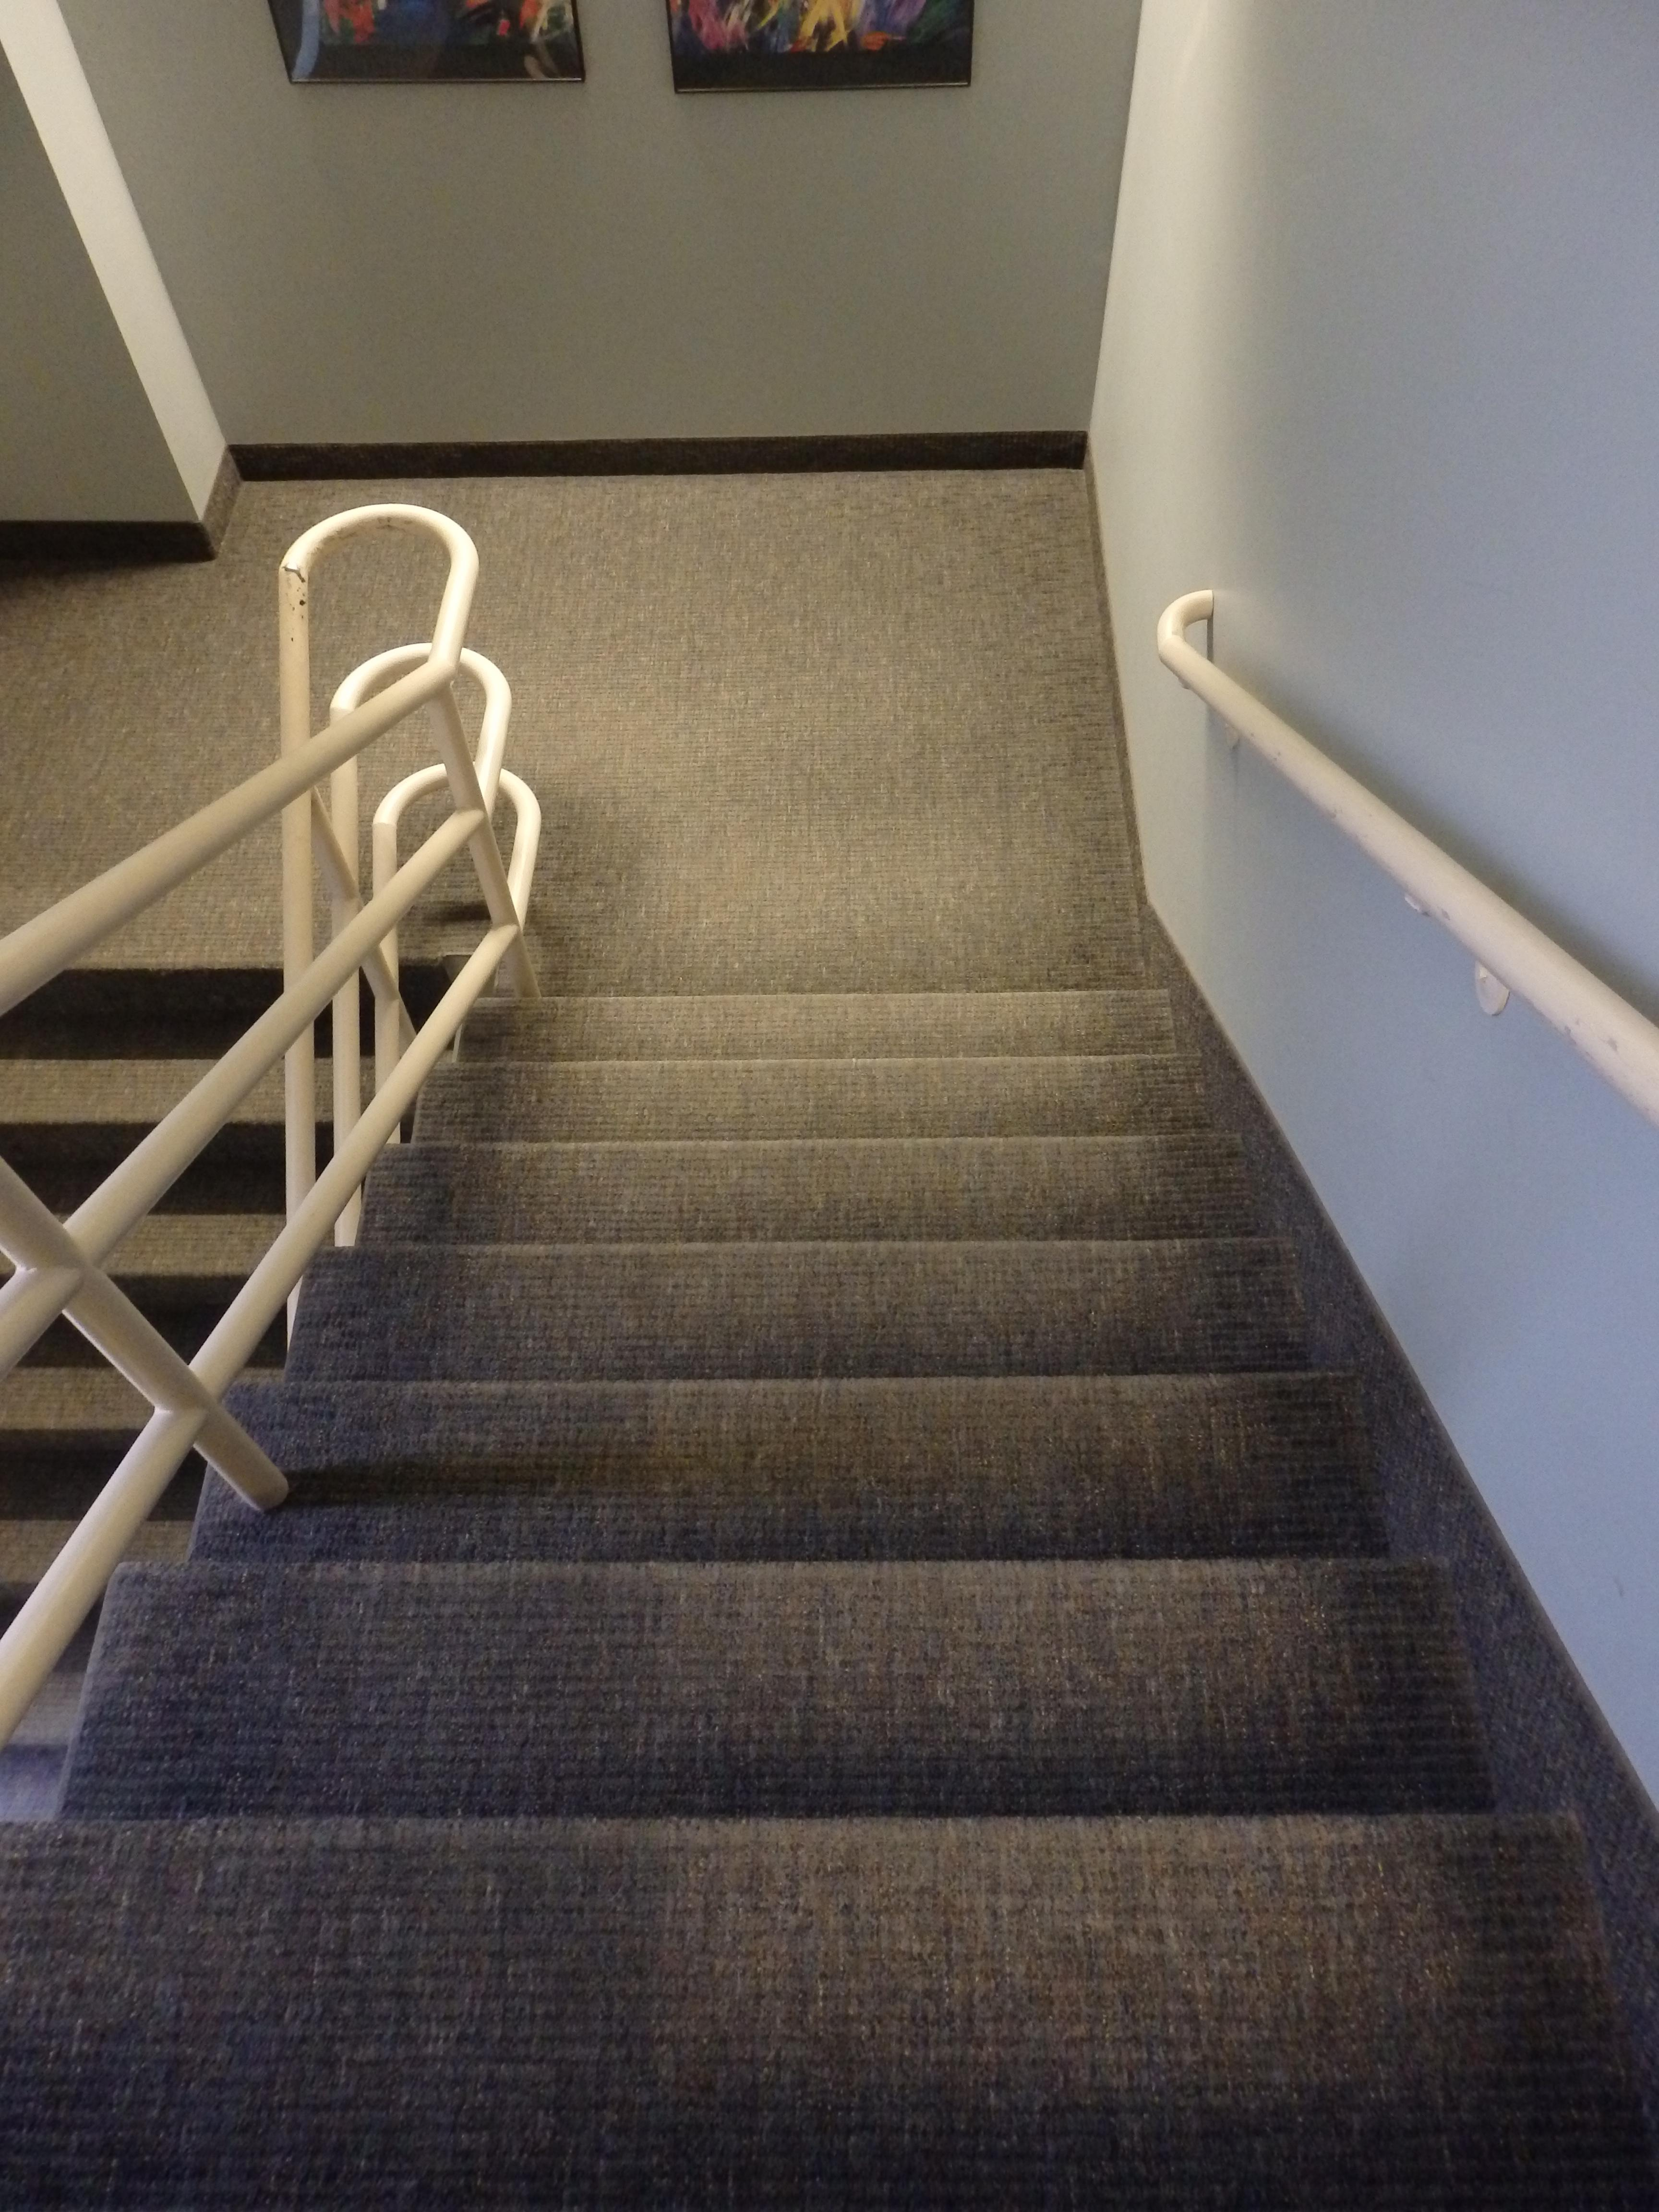stairs_down: (232, 977, 1377, 2170)
